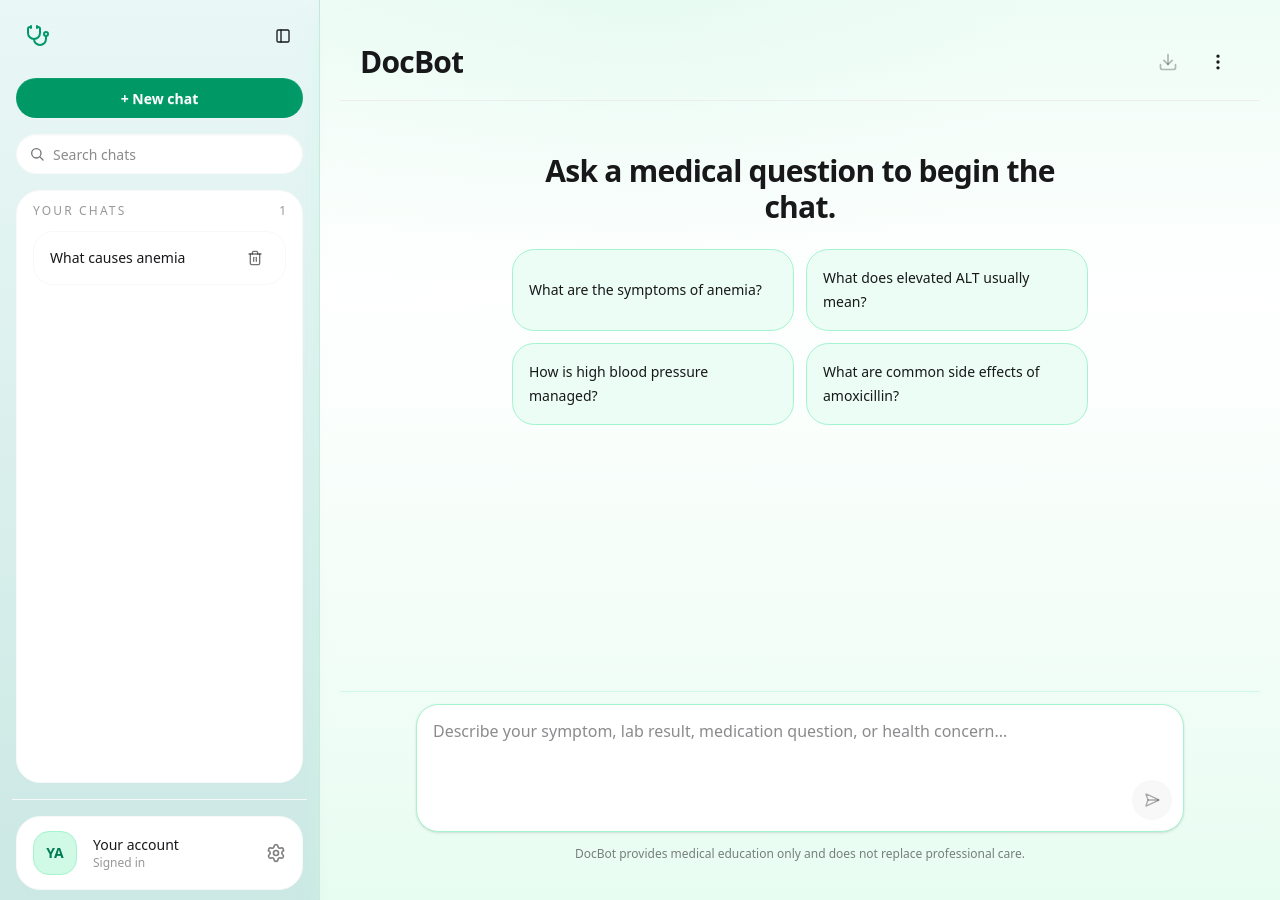
Scenario: chat shell › deletes a saved conversation from the sidebar trash action
Expected: the button "What causes anemia" is shown, [46, 242, 229, 274]
What coordinates should you click on to do the following:
click the button named "delete conversation what causes anemia"
I would click on:
 (255, 258)
Its box is [237, 240, 273, 276].
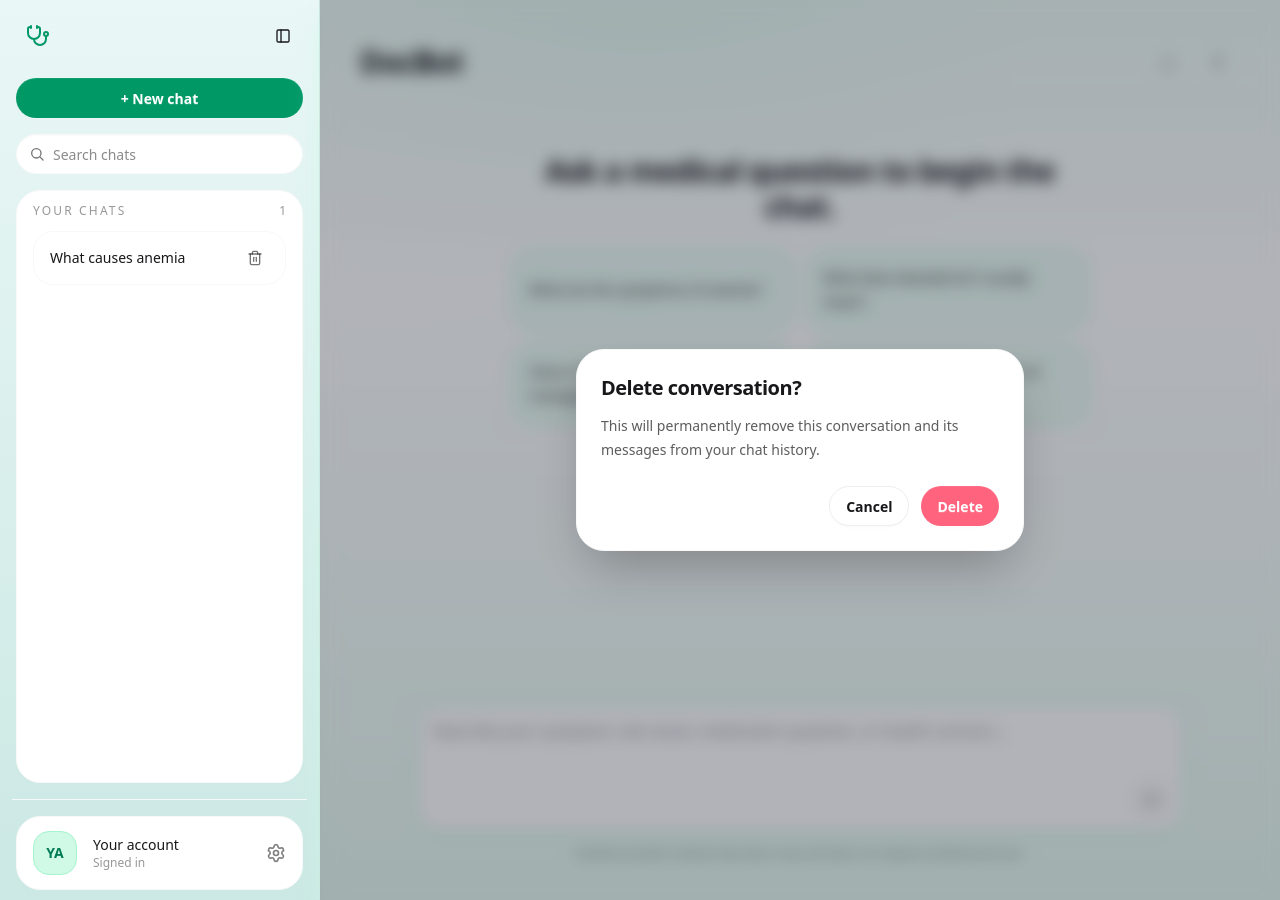
Now the dialog "Delete conversation" is shown, box [576, 349, 1024, 551]
What coordinates should you click on to do the following:
click the button "Delete"
I would click on:
 (960, 506)
Its box is [922, 486, 999, 526].
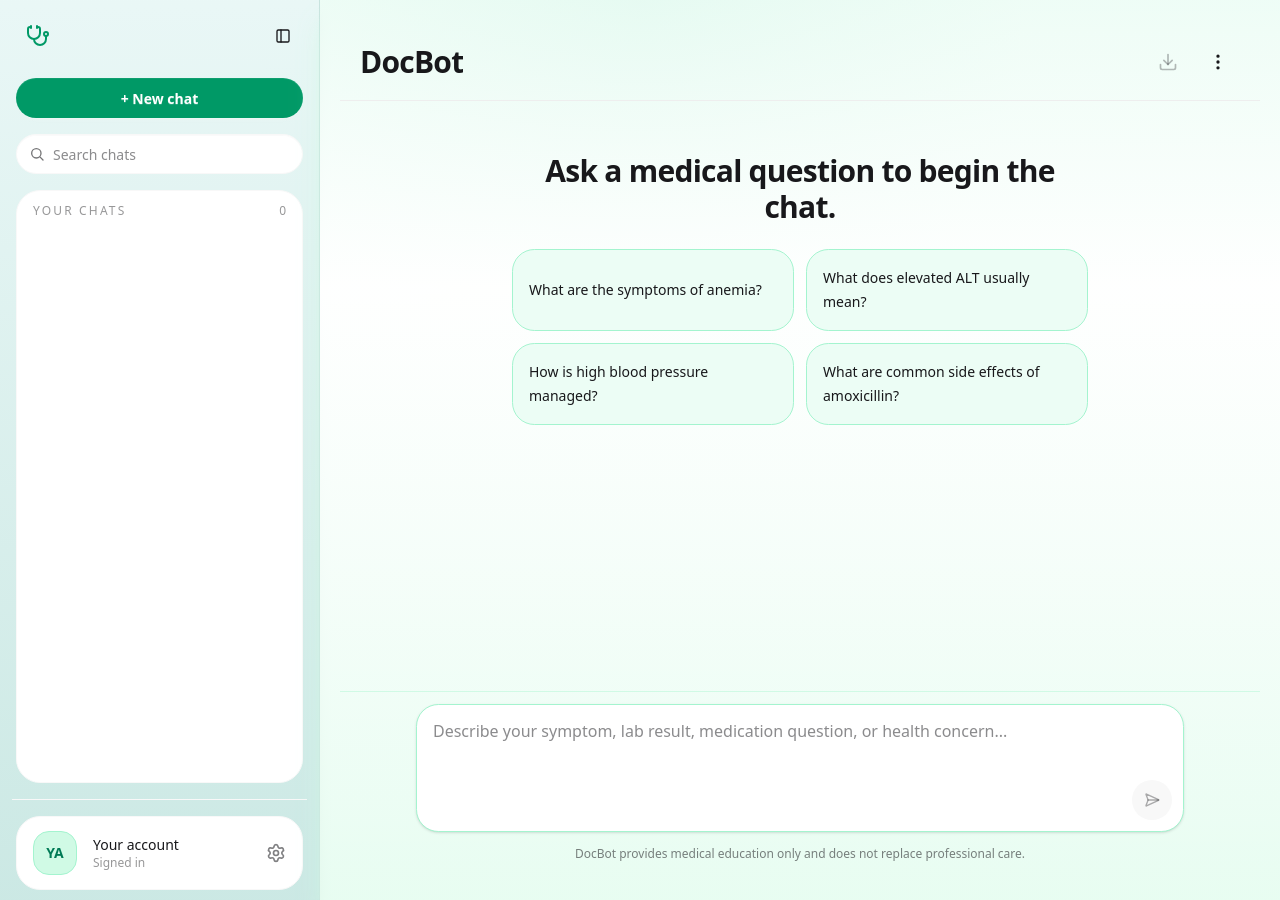
Now the button "What causes anemia" is gone
